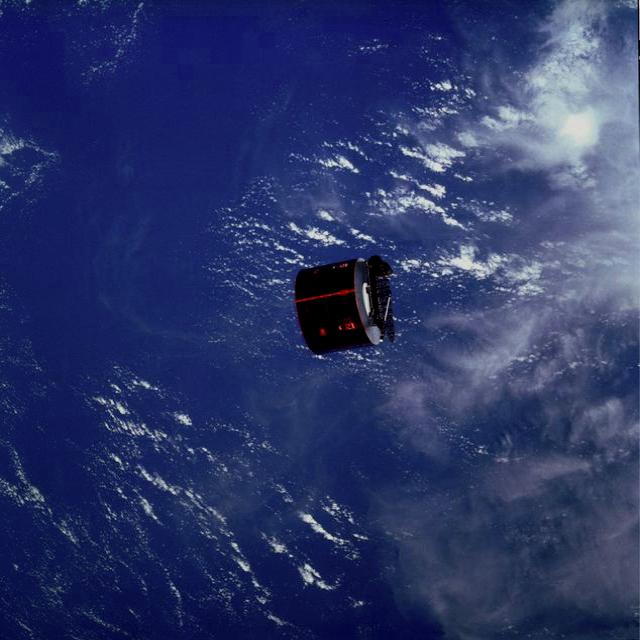satellite: (295, 256, 394, 354)
